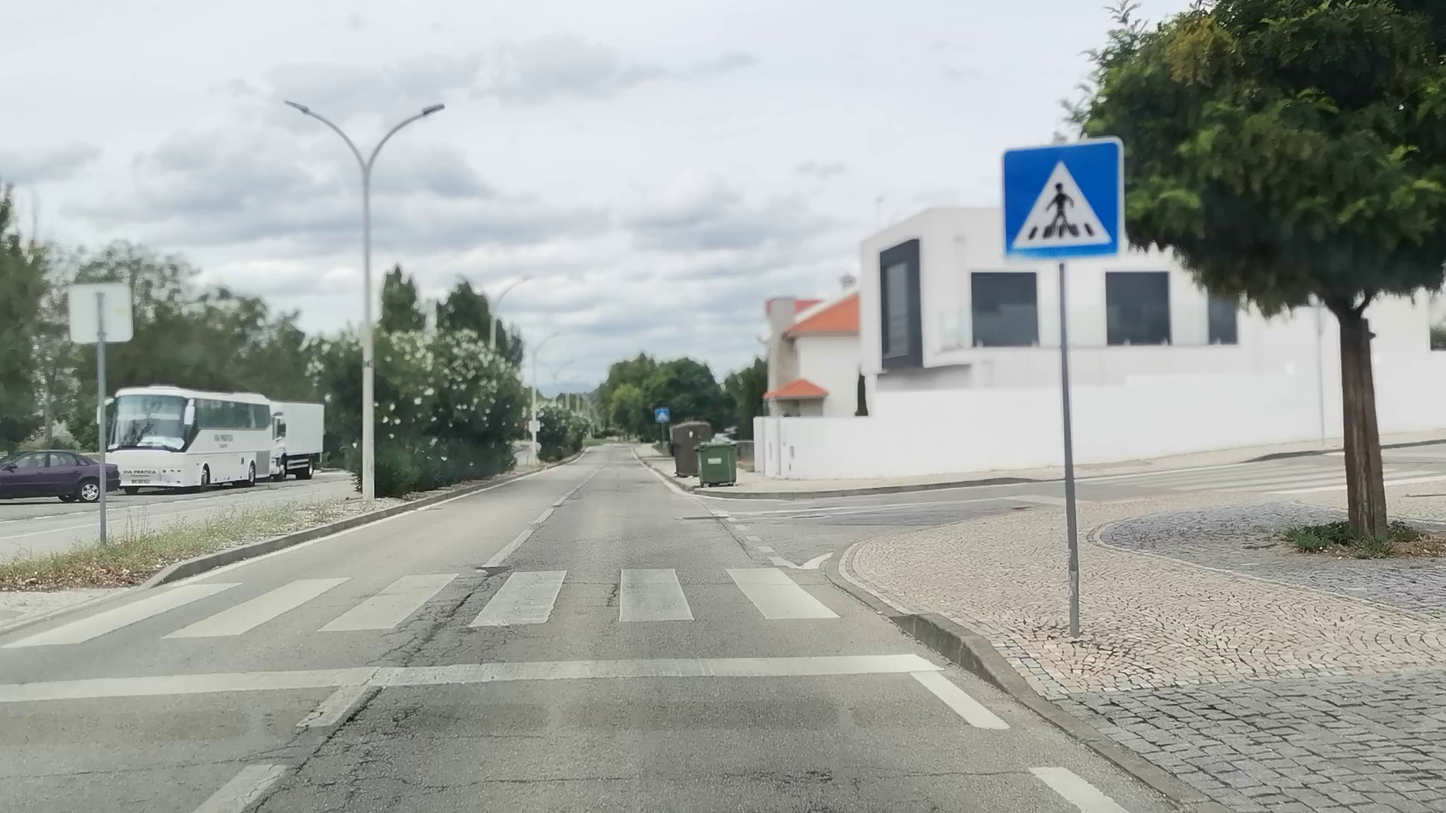Stairs: (1, 566, 840, 644)
